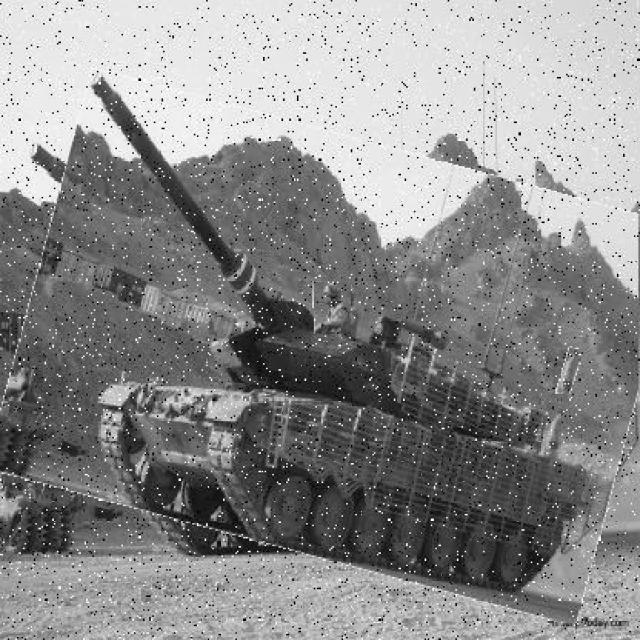Person: (315, 281, 353, 336), (560, 349, 580, 396)
Tank: (6, 104, 640, 592)
